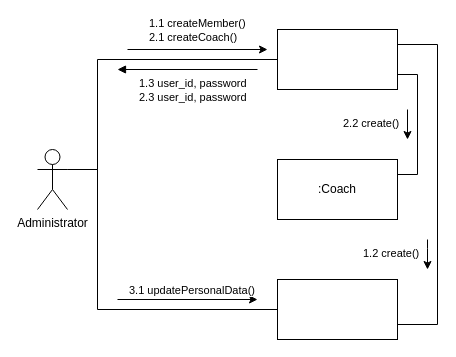
Some shapes in this 456 by 357 pixel diagram are drawn without their labels. Here are the shapes that lost their labels. From the top down, the box of each, then its label:
(276, 28, 398, 90): :User
(276, 278, 398, 340): :Member
